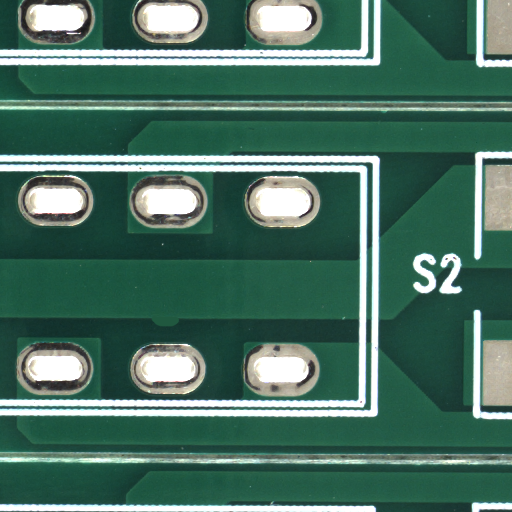Spur: (165, 322, 197, 333)
